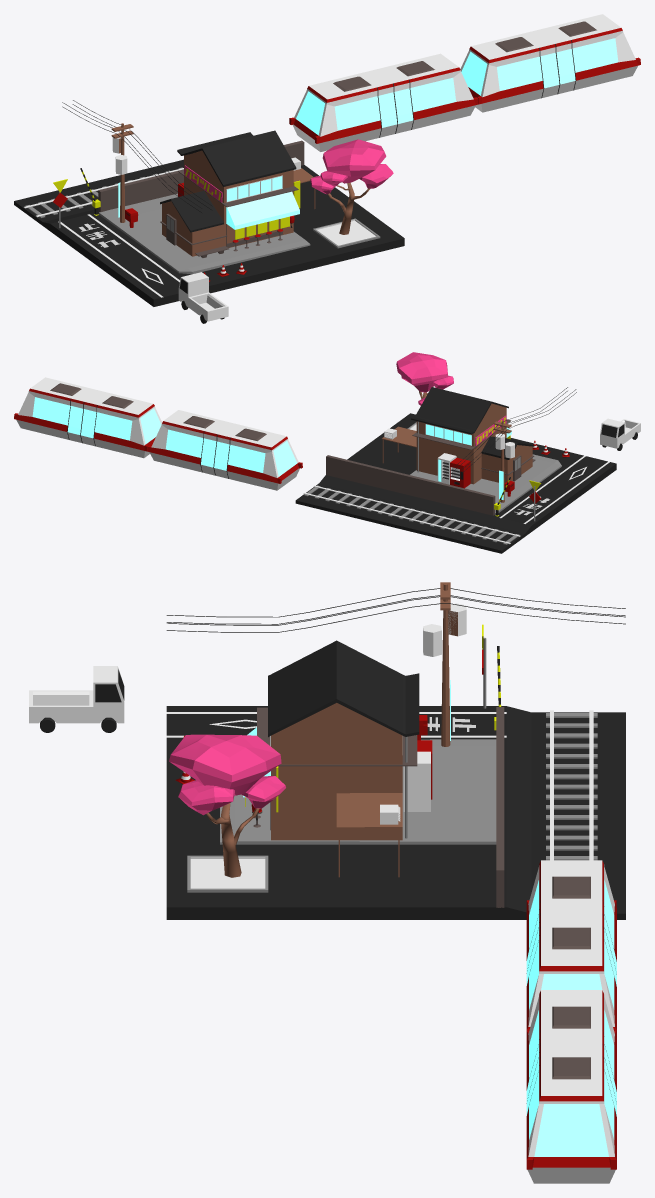
The model's file is paysage-old.gltf.
3 renders of one model, top to bottom at view 1: azimuth 30°, elevation 25°; view 2: azimuth 150°, elevation 25°; view 3: azimuth 270°, elevation 25°, orthographic. The views are drawn at different scales.
Visible parts, largest first — view 1: wagon, road, house, trottoir.001, fleats, wall, car, earth, cable, roadstrip, three, hautvent (+3 smaller); view 2: wagon, road, house, wall, trottoir.001, fleats, repeatRails, car, rails, machineBoisson2, cable, roadstrip (+3 smaller); view 3: road, wagon, house, trottoir.001, fleats, car, repeatRails, earth, cable, wall, machineBoisson1, rails (+4 smaller).
Part boxes in pixels (x1,y1,x2,y2): wagon: (289,14,640,151); road: (14,159,404,306); house: (160,130,315,256); trottoir.001: (99,193,310,274); fleats: (310,139,393,194); wall: (98,140,304,212); car: (178,272,228,321); earth: (313,218,380,248); cable: (62,100,212,212); roadstrip: (58,214,179,297); three: (328,182,370,234); hautvent: (235,216,289,239); wagon: (14,377,302,490); road: (295,413,616,553); house: (381,387,534,484); wall: (326,455,495,515); trottoir.001: (410,454,561,514); fleats: (396,352,453,405); repeatRails: (304,485,519,544); car: (600,418,640,448); rails: (303,485,520,544); machineBoisson2: (450,457,470,488); cable: (453,387,576,472); roadstrip: (499,455,609,523); road: (166,706,625,919); wagon: (526,860,616,1183); house: (243,640,419,877); trottoir.001: (220,739,496,844); fleats: (169,734,285,815); car: (29,666,124,723); repeatRails: (546,713,597,860); earth: (187,855,268,892); cable: (166,588,625,632); wall: (496,707,504,907); machineBoisson1: (403,751,430,811); rails: (550,710,593,860).
Bounding box in the file's own units: 40.95 × 7.04 × 21.43.
